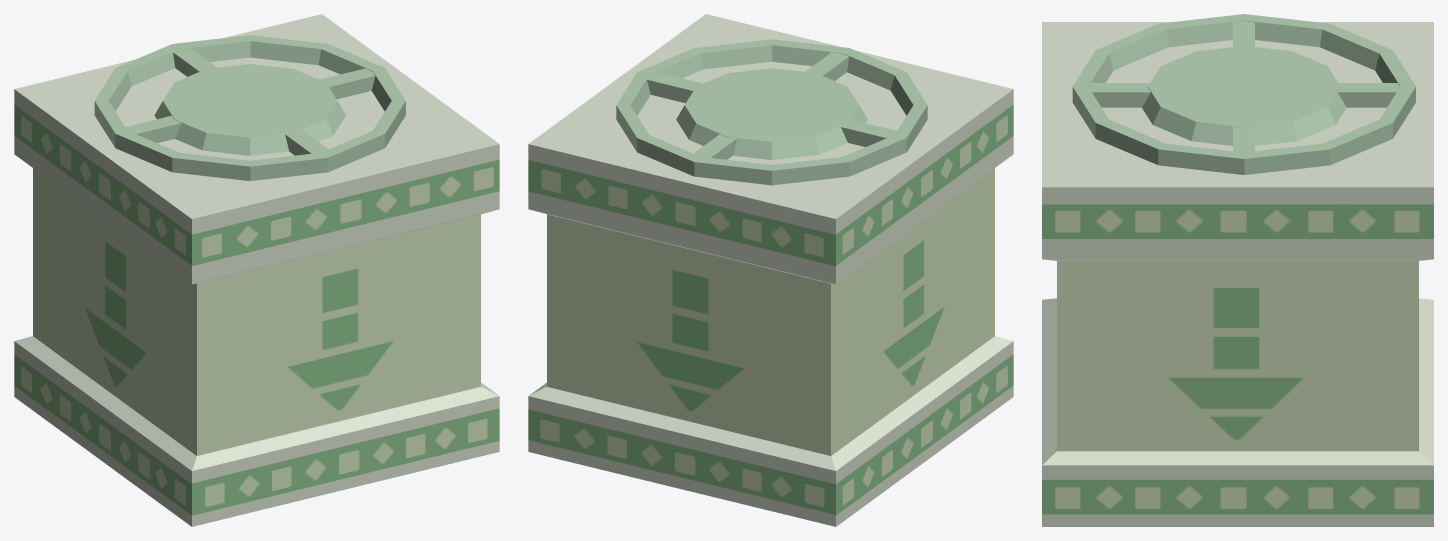
Rendered from move-down.fbx.
3 views of the same model, side by side, from view 1: azimuth 30°, elevation 25°; view 2: azimuth 150°, elevation 25°; view 3: azimuth 270°, elevation 25° (orthographic). The views are drawn at different scales.
Parts seen in each view (by area): view 1: polySurface134; view 2: polySurface134; view 3: polySurface134.
Part boxes in pixels (x1,y1,x2,y2): polySurface134: (14,14,499,526); polySurface134: (528,14,1013,526); polySurface134: (1042,14,1433,526).
Bounding box in the file's own units: 2 × 2 × 2.
